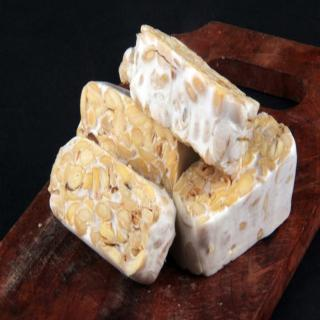Tempe: (119, 24, 262, 177), (173, 111, 298, 278), (48, 136, 178, 286), (77, 81, 181, 198)
